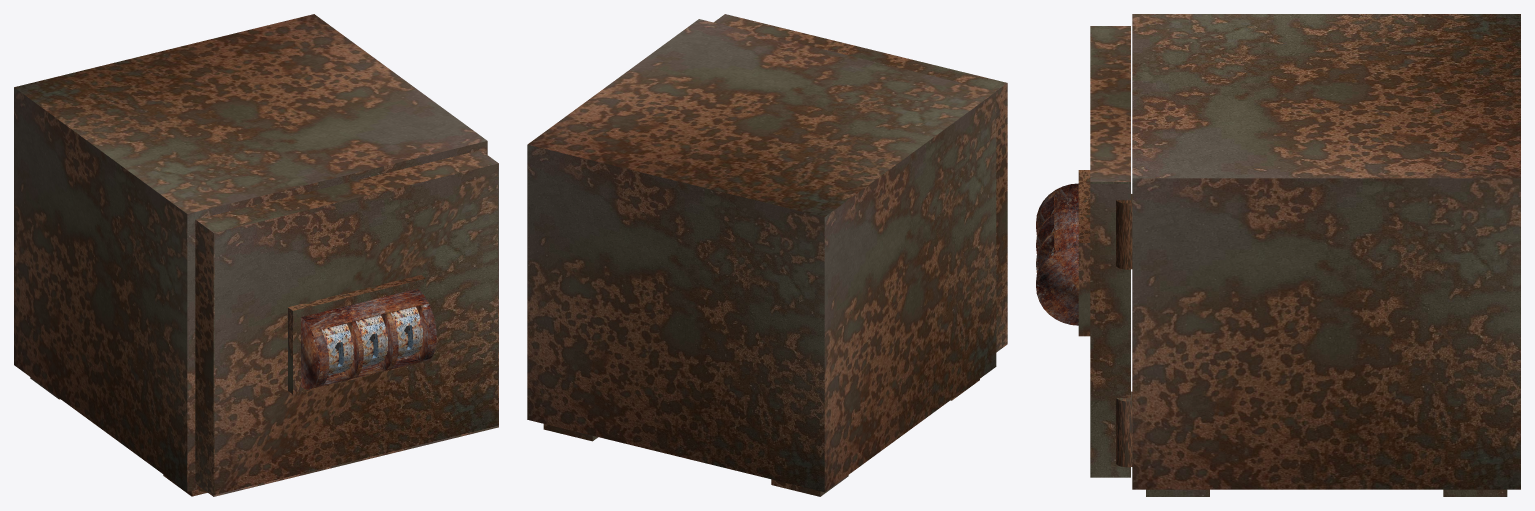
The model's file is Safe.glb.
3 views of the same model, side by side, from view 1: azimuth 30°, elevation 25°; view 2: azimuth 150°, elevation 25°; view 3: azimuth 270°, elevation 25° (orthographic). The views are drawn at different scales.
Parts seen in each view (by area): view 1: Safe, Safe door, roll1, roll3, roll2; view 2: Safe, Safe door; view 3: Safe, Safe door.
Part boxes in pixels (bbox=[...]): Safe: bbox=[14, 14, 487, 496]; Safe door: bbox=[195, 150, 498, 496]; roll1: bbox=[321, 323, 353, 375]; roll3: bbox=[391, 306, 422, 358]; roll2: bbox=[356, 315, 387, 367]; Safe: bbox=[527, 19, 996, 496]; Safe door: bbox=[714, 14, 1007, 352]; Safe: bbox=[1132, 14, 1520, 496]; Safe door: bbox=[1036, 26, 1132, 477].
Size of the model in its own units: 3.22 by 2.96 by 4.01.
Materials: 9 (6 with a texture image).
